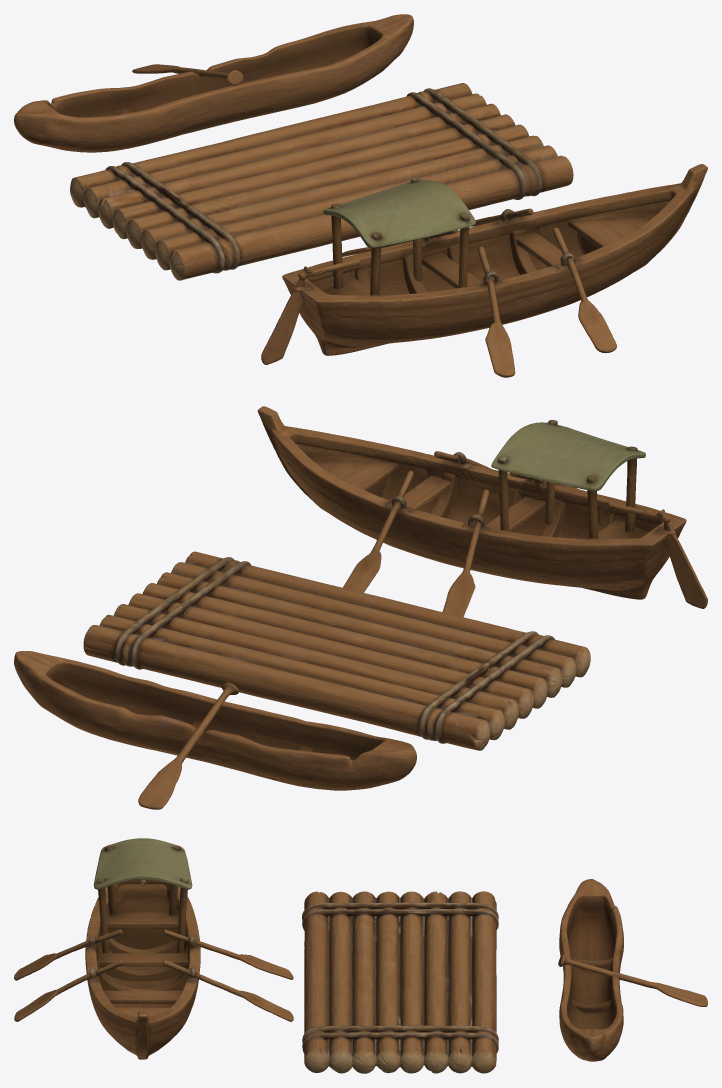
File: phunam9.glb
The picture shows the model from 3 angles, top to bottom: view 1: azimuth 30°, elevation 25°; view 2: azimuth 150°, elevation 25°; view 3: azimuth 270°, elevation 25°; orthographic projection. The views are drawn at different scales.
Parts seen in each view (by area): view 1: tripo_node_0d88b86a-5c1d-4bfc-97cb-6413123d5fbc; view 2: tripo_node_0d88b86a-5c1d-4bfc-97cb-6413123d5fbc; view 3: tripo_node_0d88b86a-5c1d-4bfc-97cb-6413123d5fbc.
Boxes of the visible parts, x1=… form: tripo_node_0d88b86a-5c1d-4bfc-97cb-6413123d5fbc: x1=14, y1=14, x2=707, y2=377; tripo_node_0d88b86a-5c1d-4bfc-97cb-6413123d5fbc: x1=14, y1=406, x2=707, y2=809; tripo_node_0d88b86a-5c1d-4bfc-97cb-6413123d5fbc: x1=14, y1=838, x2=707, y2=1073.
Size of the model in its own units: 0.6195 by 0.187 by 1.
Materials: 1 (1 with a texture image).
